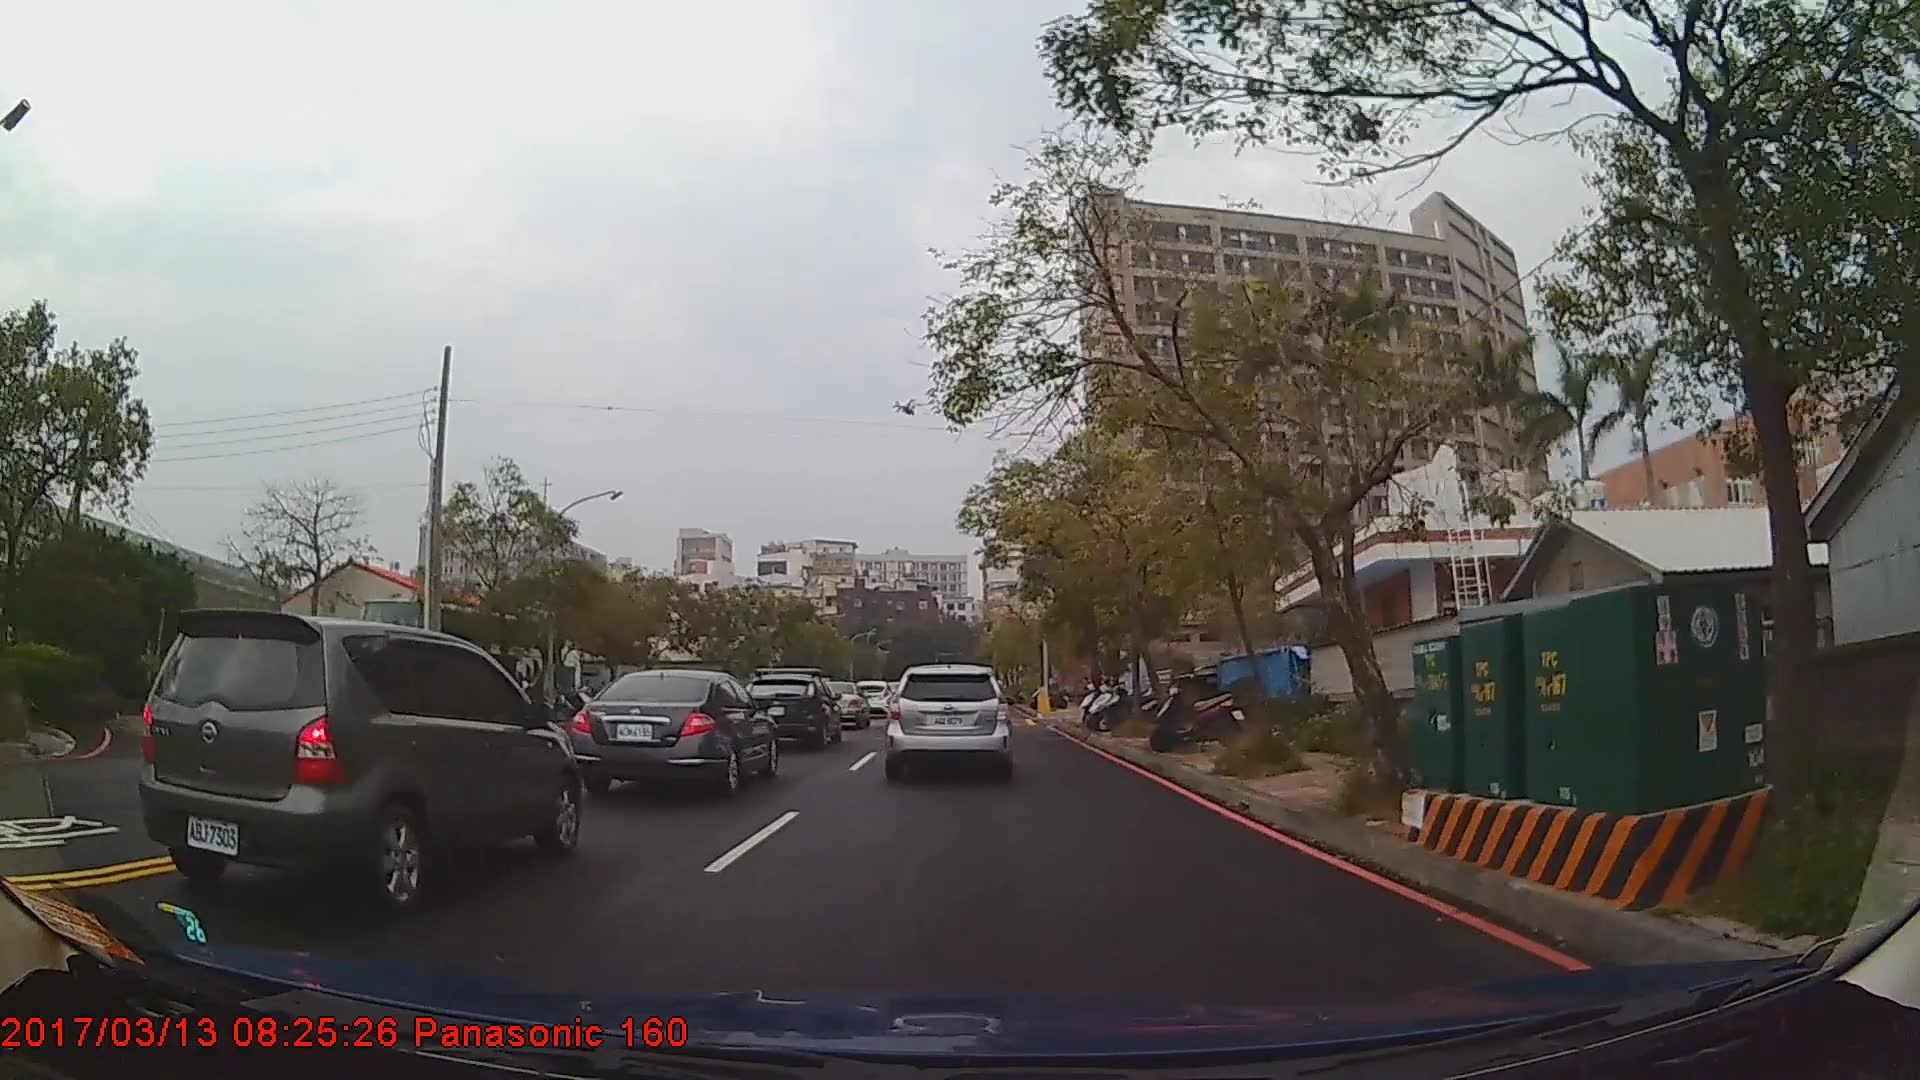vehicle: (135, 608, 579, 916), (571, 669, 781, 799), (884, 667, 1013, 783), (738, 673, 843, 749), (815, 679, 869, 728), (849, 679, 895, 719)
